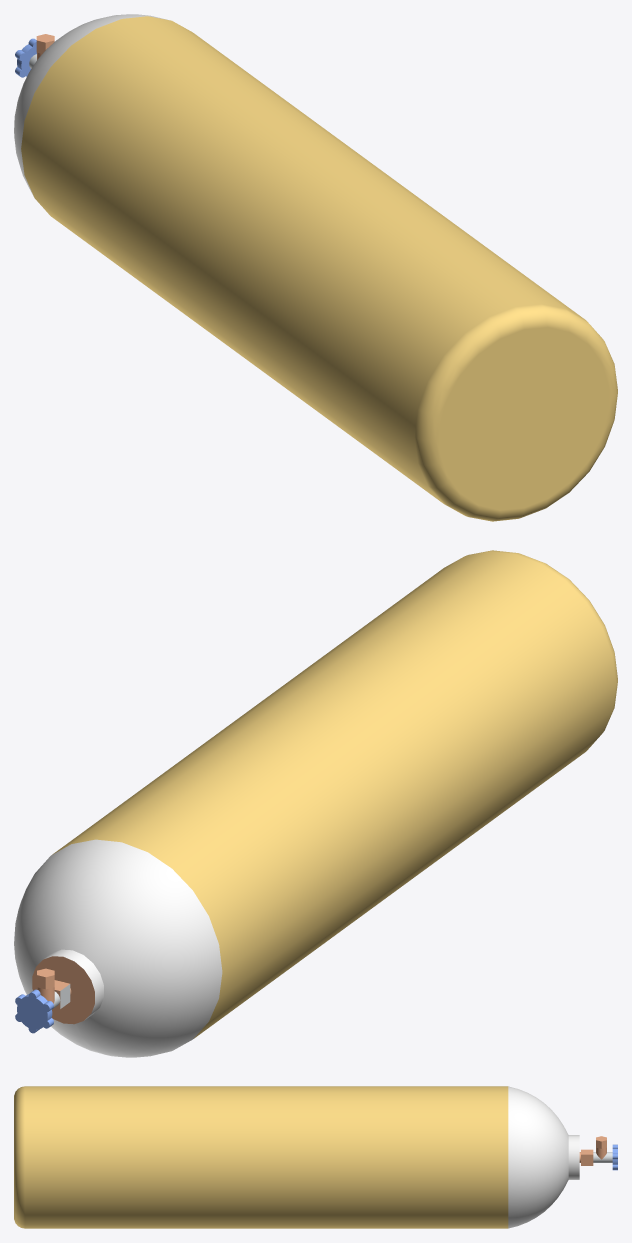
The model's file is oxigeno.fbx.
The picture shows the model from 3 angles, top to bottom: view 1: azimuth 30°, elevation 25°; view 2: azimuth 150°, elevation 25°; view 3: azimuth 270°, elevation 25°; orthographic projection. The views are drawn at different scales.
Parts seen in each view (by area): view 1: Fillet1; view 2: Fillet1; view 3: Fillet1.
Boxes of the visible parts, <box> form: Fillet1: <box>14,14,617,521</box>; Fillet1: <box>14,550,617,1057</box>; Fillet1: <box>14,1086,617,1228</box>.
Size of the model in its own units: 13 by 13 by 55.
